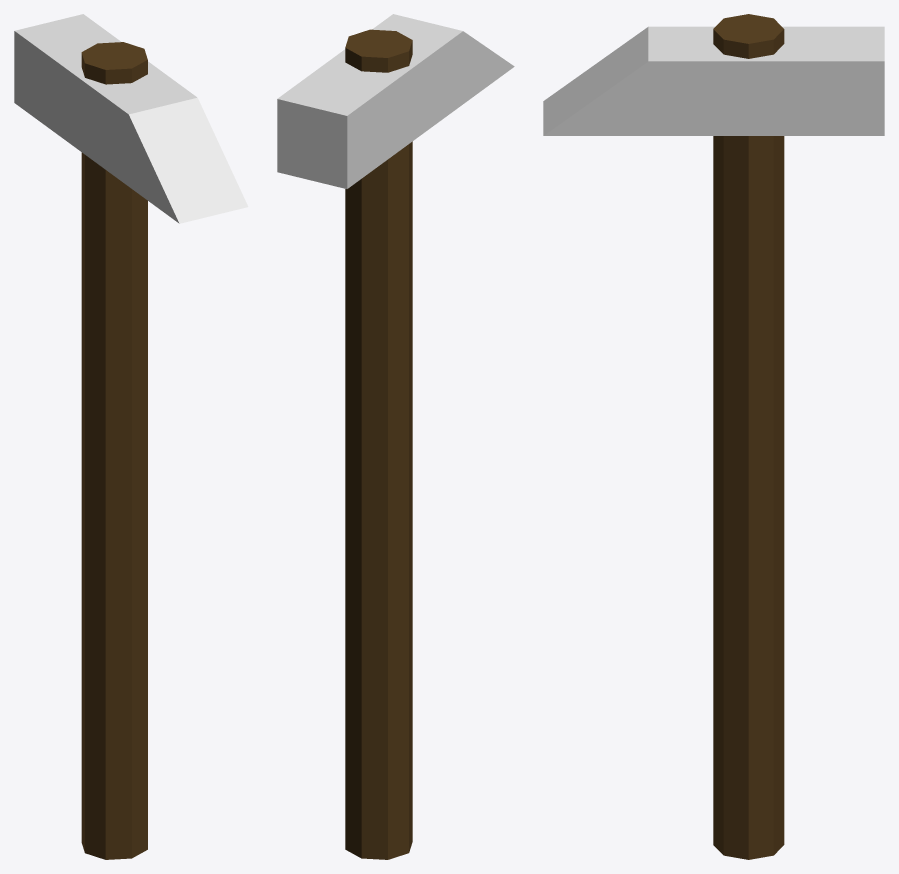
File: hammer_rectangle.glb
3 renders of one model, left to right at view 1: azimuth 30°, elevation 25°; view 2: azimuth 150°, elevation 25°; view 3: azimuth 270°, elevation 25°, orthographic. The views are drawn at different scales.
Parts seen in each view (by area): view 1: hammer_rectangle; view 2: hammer_rectangle; view 3: hammer_rectangle.
Boxes of the visible parts, x1,y1,x2,y2 form: hammer_rectangle: (14,14,248,859); hammer_rectangle: (277,14,514,859); hammer_rectangle: (543,14,884,859).
Bounding box in the file's own units: 0.0287 × 0.3136 × 0.1188.
